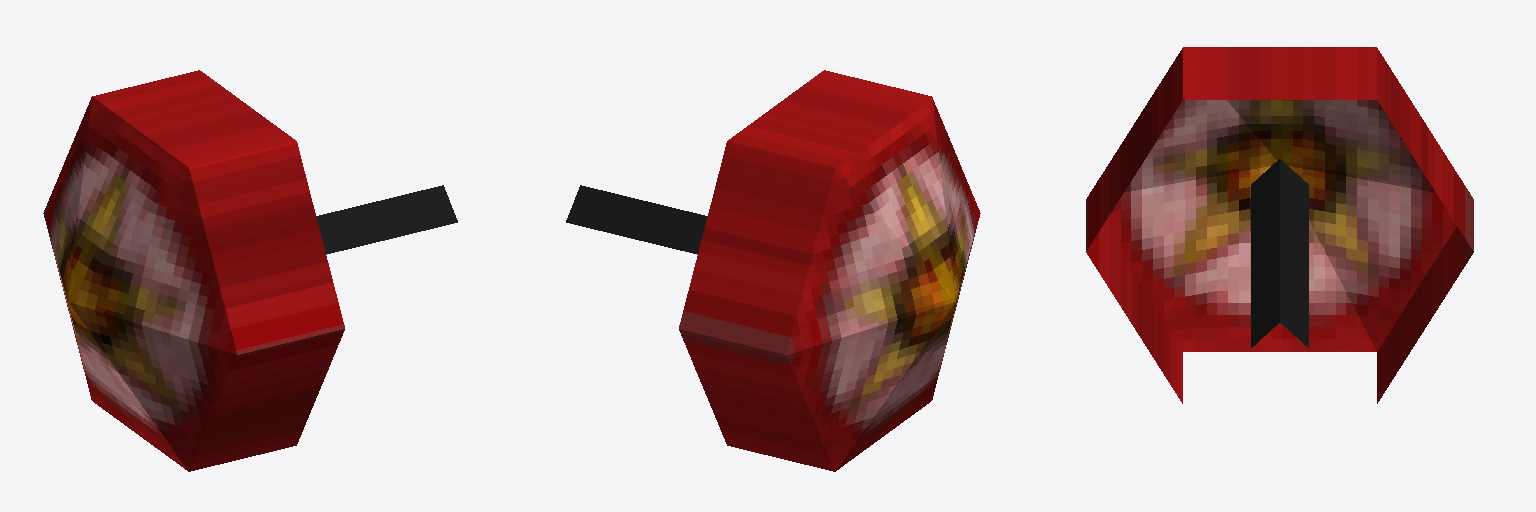
The picture shows the model from 3 angles: view 1: azimuth 30°, elevation 25°; view 2: azimuth 150°, elevation 25°; view 3: azimuth 270°, elevation 25°; orthographic projection.
Visible parts, largest first — view 1: spring1; view 2: spring1; view 3: spring1.
Boxes of the visible parts, box(x1,y1,x2,y2) form: spring1: box(43, 70, 457, 471); spring1: box(566, 70, 980, 471); spring1: box(1086, 47, 1473, 403).
Bounding box in the file's own units: 0.3127 × 0.2425 × 0.28.
2 materials, 1 textured.